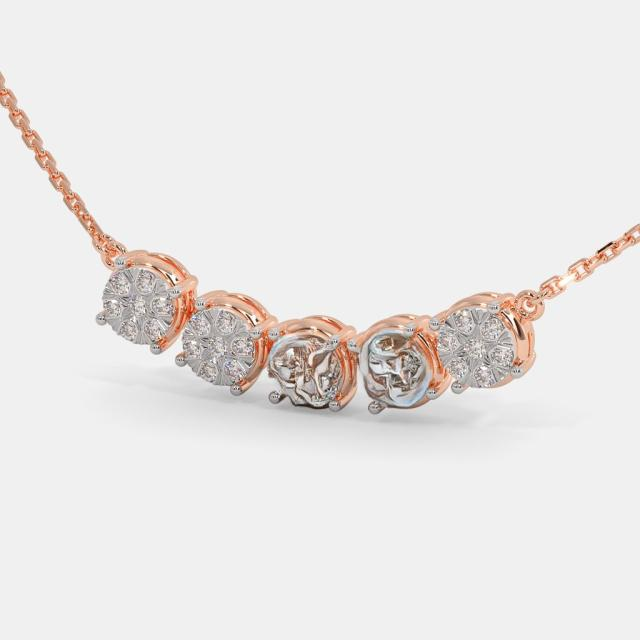missing gem: (362, 329, 434, 406), (268, 338, 347, 404)
